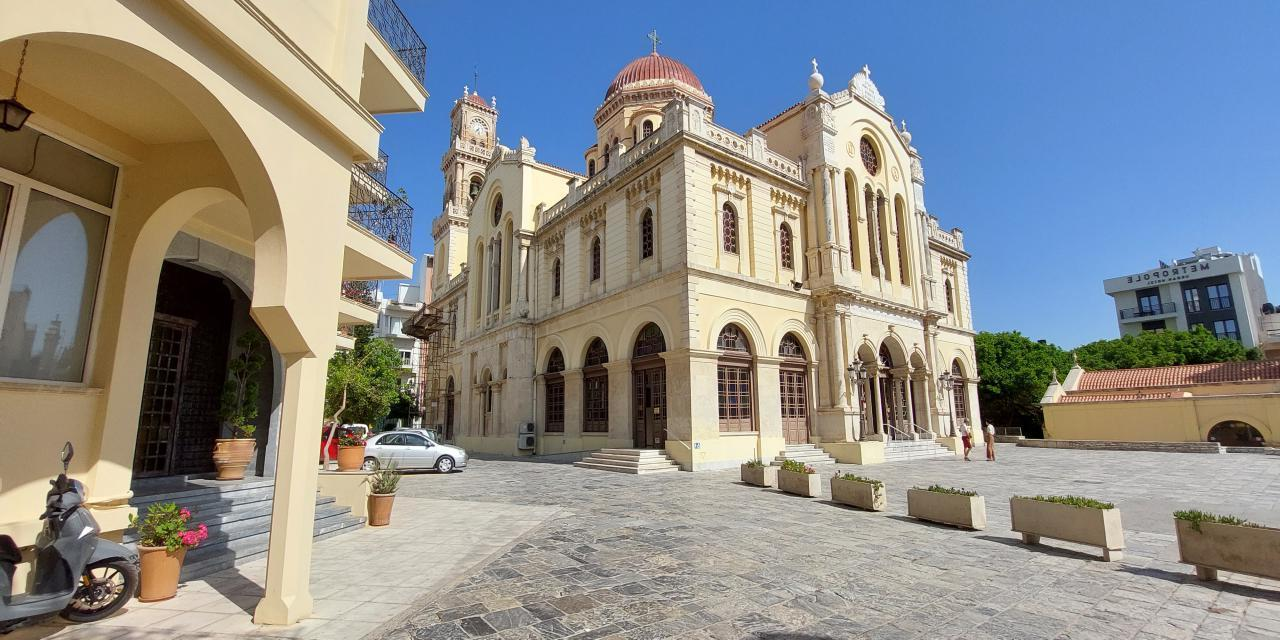Agios Minas: (402, 29, 994, 466)
